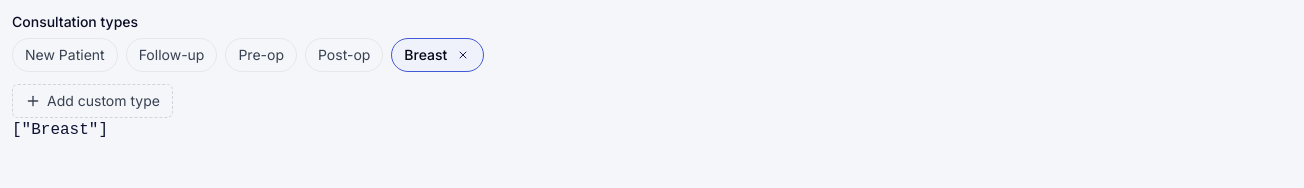
Test: ConsultationTypesEditor — validation gates › blocks Add for a duplicate of an existing custom
The width and height of the screenshot is (1304, 188).
Click the button "Add custom type": (92, 101) [12,84,173,118]
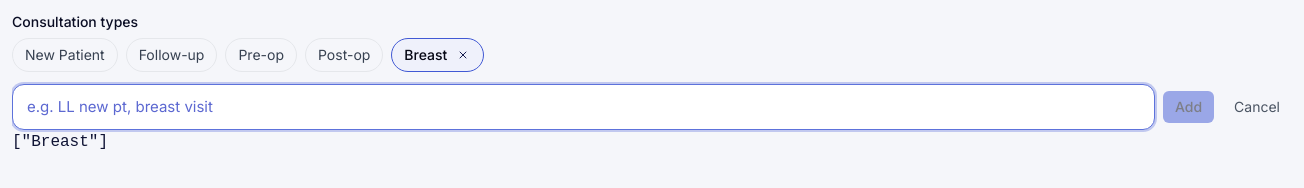
In the field named "custom consultation type name": (583, 107) [12,84,1155,130], type "Breast"
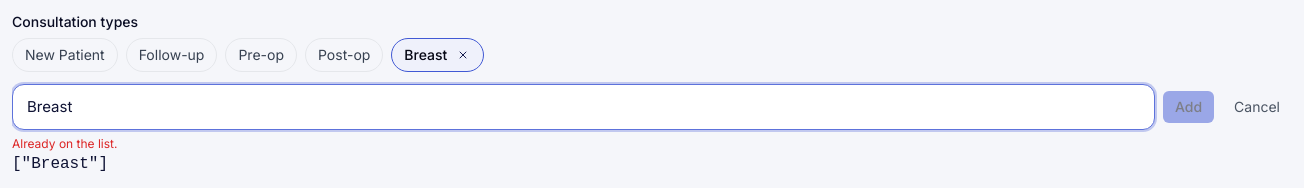
Expected: the button "Add" is disabled, [1163,91,1214,123]
Now the text "Already on the list." is shown, box [12,136,118,151]
